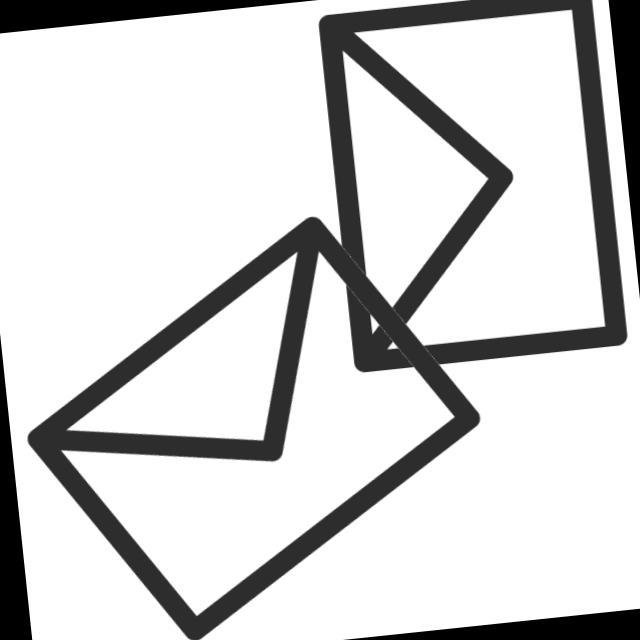letter: (1, 185, 514, 640), (299, 1, 639, 390)
